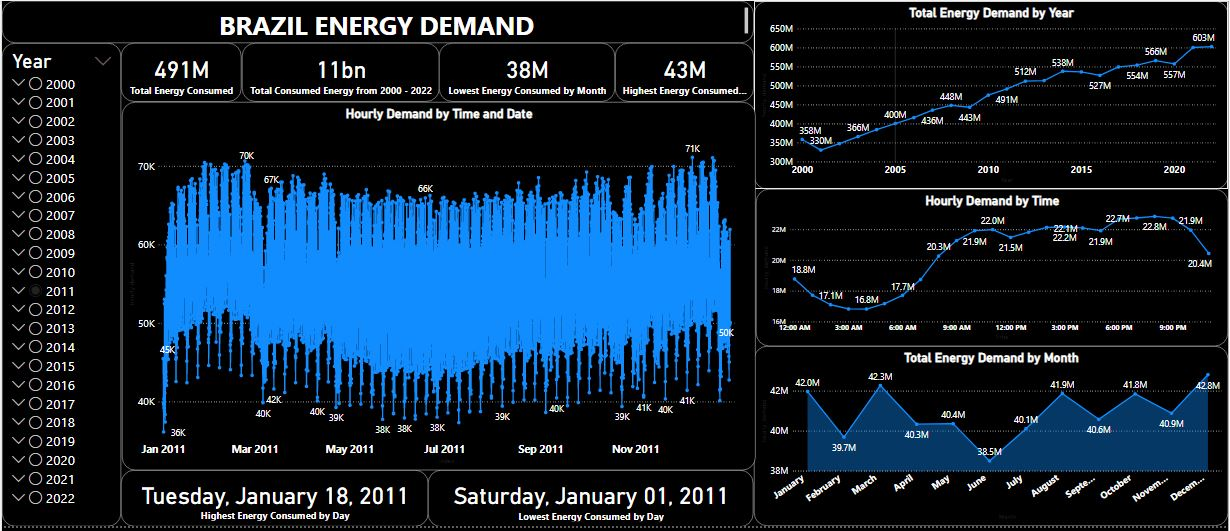

What the dashboard file says about the page in this screenshot:
{"tool":"powerbi","page":{"name":"Page 1","canvas":[2800,1200],"ordinal":0},"visuals":[{"type":"slicer","fields":{"Values":["energy_demand_hourly_brazil.index.Variation.Date Hierarchy.Year","energy_demand_hourly_brazil.index.Variation.Date Hierarchy.Month","energy_demand_hourly_brazil.index.Variation.Date Hierarchy.Day"]},"box":[0,96.3,272.4,1103.7],"z":0},{"type":"textbox","box":[0,0,2799.2,96.3],"z":1000},{"type":"lineChart","title":"Total Energy Demand by Year","fields":{"Y":["Sum(energy_demand_hourly_brazil.hourly_demand)"],"Category":["energy_demand_hourly_brazil.index.Variation.Date Hierarchy.Year"]},"box":[1715.7,95.9,1084.3,506.2],"z":2000},{"type":"card","fields":{"Values":["Sum(energy_demand_hourly_brazil.hourly_demand)"]},"box":[271.7,95.9,274.4,162.5],"z":3000},{"type":"card","fields":{"Values":["energy_demand_hourly_brazil.Total Consumed Energy from 2000 - 2022"]},"box":[546.1,95.9,452.9,162.5],"z":4000},{"type":"areaChart","title":"Total Energy Demand by Month","fields":{"Category":["energy_demand_hourly_brazil.index.Variation.Date Hierarchy.Month"],"Y":["Sum(energy_demand_hourly_brazil.hourly_demand)"]},"box":[1716.6,601.2,1082.6,598.8],"z":5000},{"type":"card","fields":{"Values":["Sum(energy_demand_hourly_brazil.hourly_demand)"]},"box":[1398.7,95.9,317,162.5],"z":6000},{"type":"actionButton","box":[0,0,100,40],"z":7000},{"type":"card","fields":{"Values":["Sum(energy_demand_hourly_brazil.hourly_demand)"]},"box":[999,95.9,399.6,162.5],"z":8000},{"type":"card","fields":{"Values":["Min(energy_demand_hourly_brazil.Day)"]},"box":[272.7,1070.1,701.3,129.9],"z":9000},{"type":"card","fields":{"Values":["Min(energy_demand_hourly_brazil.Day)"]},"box":[974,1070.1,742.9,129.9],"z":10000},{"type":"lineChart","title":"Hourly Demand by Time and Date","fields":{"Y":["Sum(energy_demand_hourly_brazil.hourly_demand)"],"Category":["energy_demand_hourly_brazil.index"]},"box":[271,258.9,1445.2,812.9],"z":11000}]}

Visuals, with their boxes in screenshot pixels (x1, y1, x2, y2), scaled from the page's 2800x1200 canvas onto the 1230x531 screenshot:
slicer - energy_demand_hourly_brazil.index.Variation.Date Hierarchy.Year x energy_demand_hourly_brazil.index.Variation.Date Hierarchy.Month: (0,43,120,530)
textbox: (0,0,1229,43)
"Total Energy Demand by Year" lineChart: (754,42,1229,266)
card - Sum(energy_demand_hourly_brazil.hourly_demand): (119,42,240,114)
card - energy_demand_hourly_brazil.Total Consumed Energy from 2000 - 2022: (240,42,439,114)
"Total Energy Demand by Month" areaChart: (754,266,1229,530)
card - Sum(energy_demand_hourly_brazil.hourly_demand): (614,42,754,114)
actionButton: (0,0,44,18)
card - Sum(energy_demand_hourly_brazil.hourly_demand): (439,42,614,114)
card - Min(energy_demand_hourly_brazil.Day): (120,474,428,530)
card - Min(energy_demand_hourly_brazil.Day): (428,474,754,530)
"Hourly Demand by Time and Date" lineChart: (119,115,754,474)
